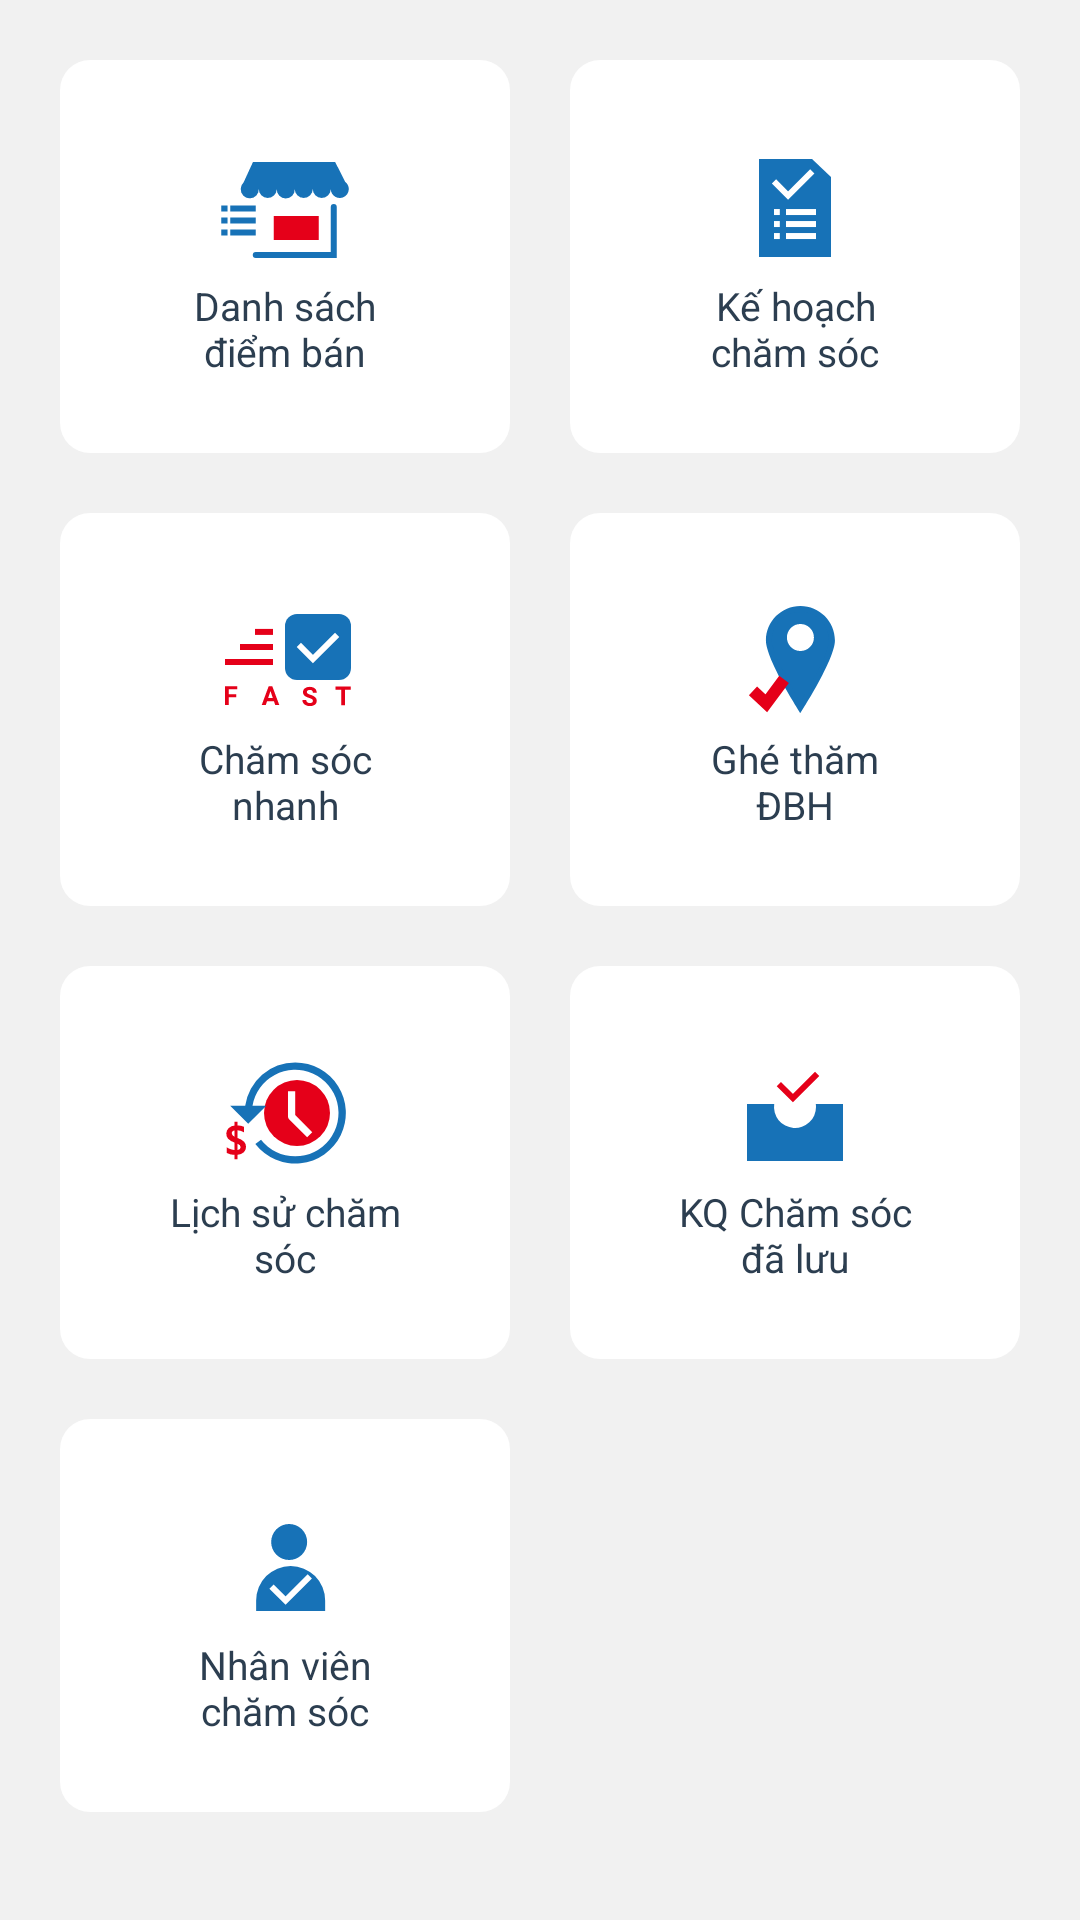

Screen size 1080 × 1920. Icon name, then its center in pixels as point (x, y):
chamsoc: point (286, 1113)
chamsocdaluu: point (795, 1116)
chamsocnhanh: point (288, 660)
diemban: point (285, 210)
ghethamdiembh: point (792, 659)
nhanvientuyen: point (291, 1567)
